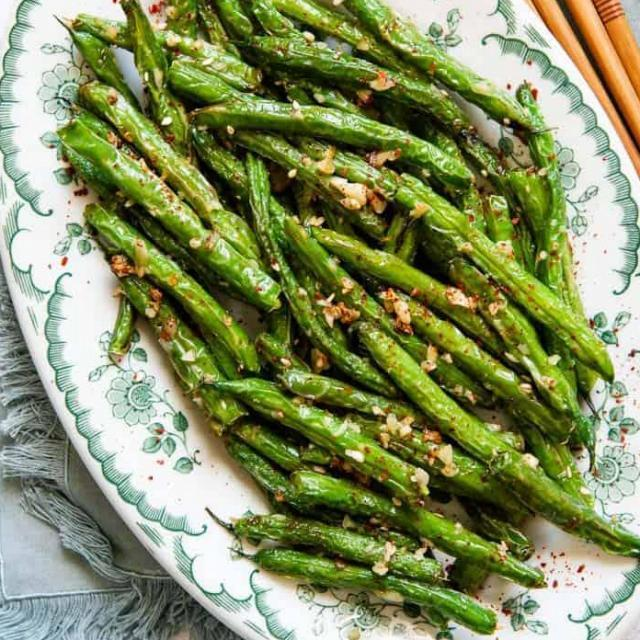Beans: (20, 0, 639, 639)
